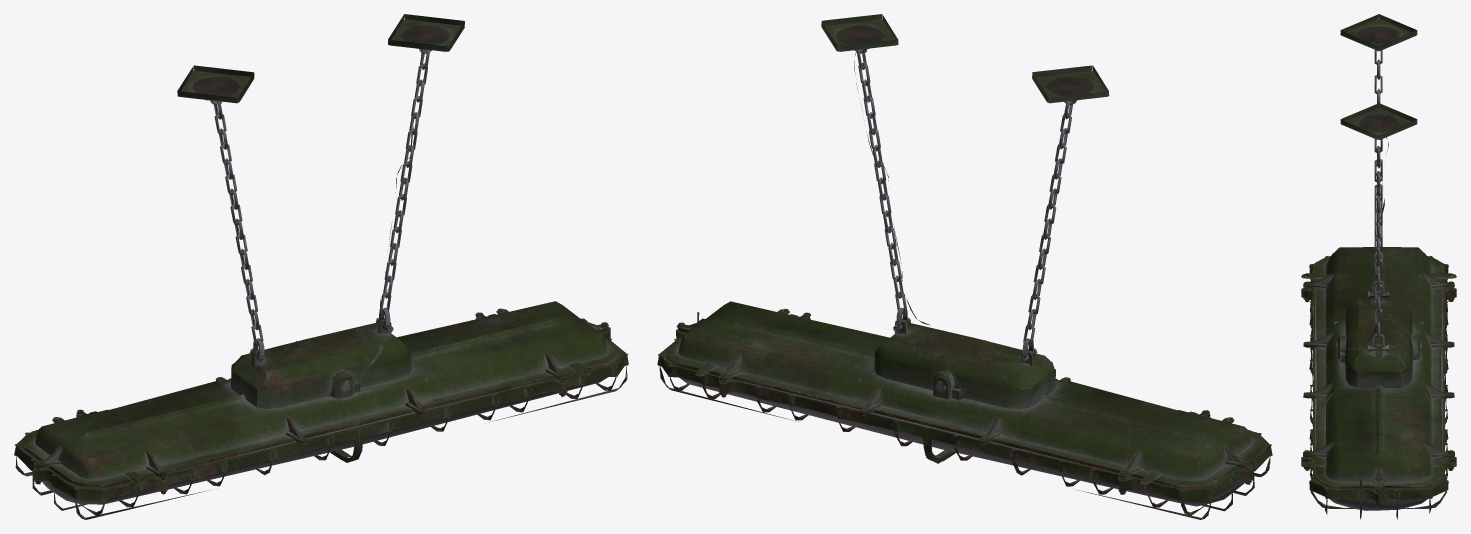
The model's file is caged_hanging_light_game.gltf.
3 views of the same model, side by side, from view 1: azimuth 30°, elevation 25°; view 2: azimuth 150°, elevation 25°; view 3: azimuth 270°, elevation 25° (orthographic). The views are drawn at different scales.
Parts seen in each view (by area): view 1: caged_hanging_light; view 2: caged_hanging_light; view 3: caged_hanging_light.
Part boxes in pixels (bbox=[...]): caged_hanging_light: bbox=[14, 14, 628, 519]; caged_hanging_light: bbox=[657, 14, 1272, 519]; caged_hanging_light: bbox=[1301, 14, 1456, 519].
Size of the model in its own units: 1.17 by 0.7501 by 0.3149.
Materials: 1 (1 with a texture image).
